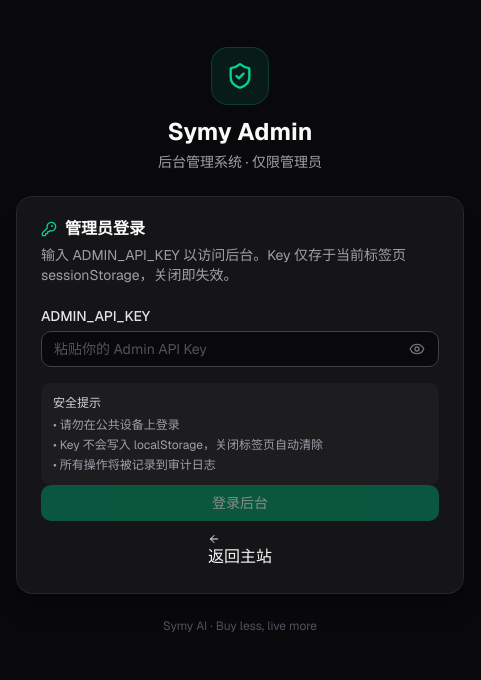
Test: AdminLoginPage › 401 → 无效错误, 不 login
The image size is (481, 680).
Type "bad-key" into the password field named "apikey" at x=240, y=349, box [41,331,439,367]
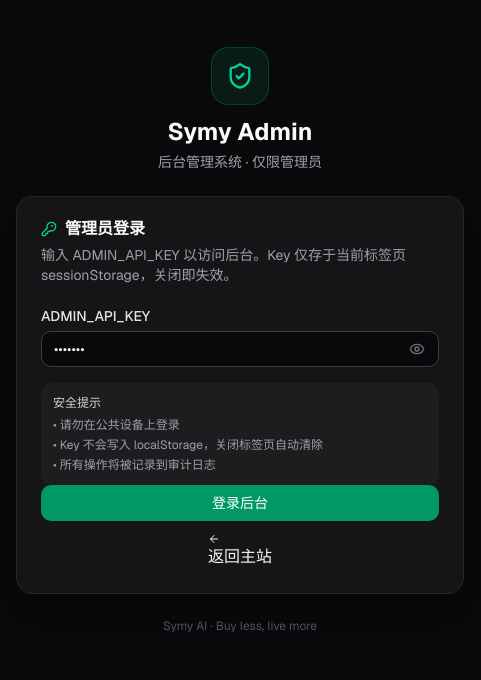
Submit the form, box [17,309,463,569]
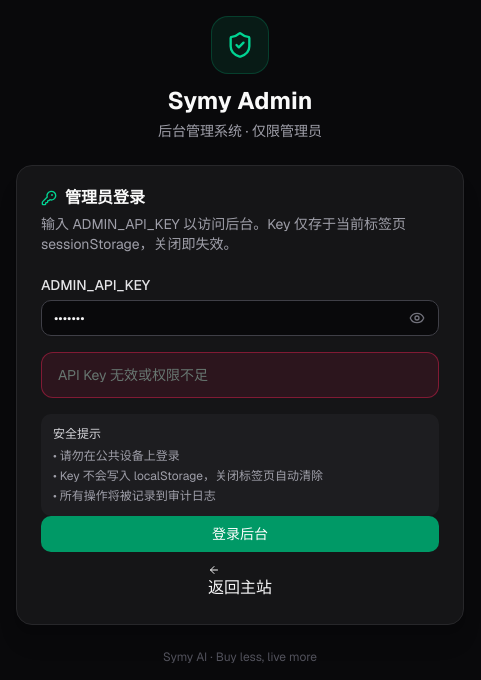
Expected: the text "API Key 无效或权限不足" is shown, [58,366,208,384]
